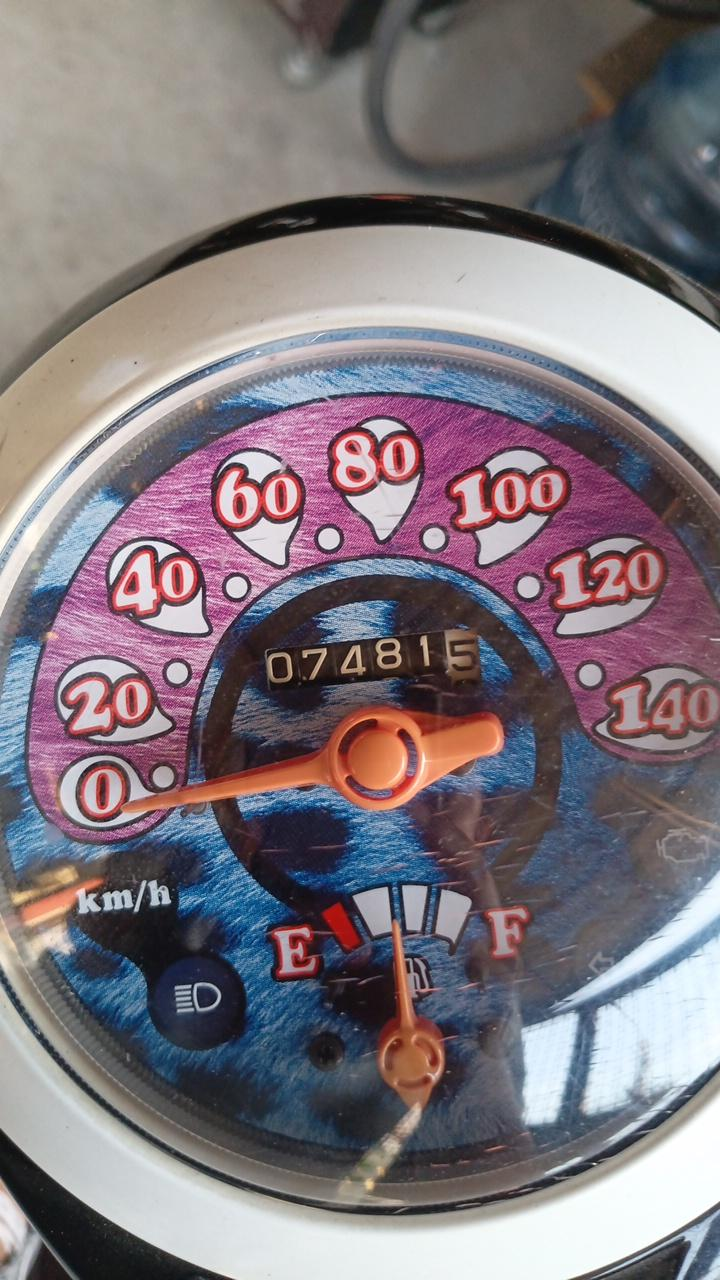0: (266, 650, 294, 684)
1: (417, 634, 431, 669)
4: (339, 642, 367, 677)
5: (447, 637, 478, 672)
7: (301, 645, 328, 683)
8: (375, 637, 402, 670)
odometer: (264, 626, 486, 700)
